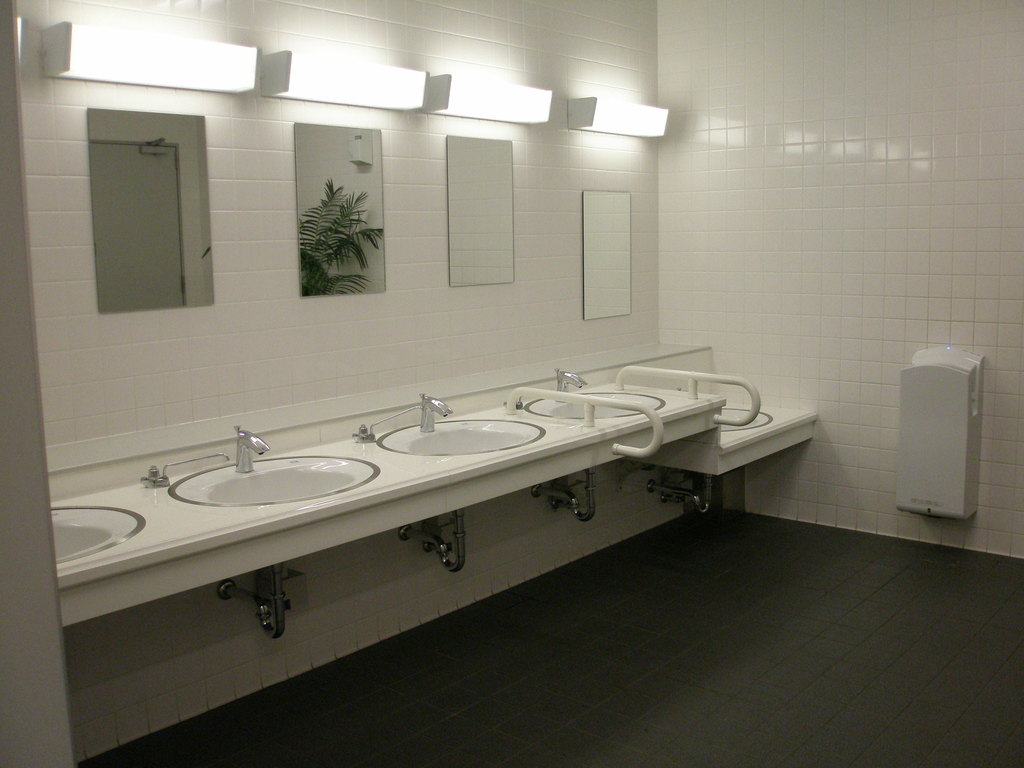tap: (412, 387, 454, 440), (233, 424, 269, 472)
